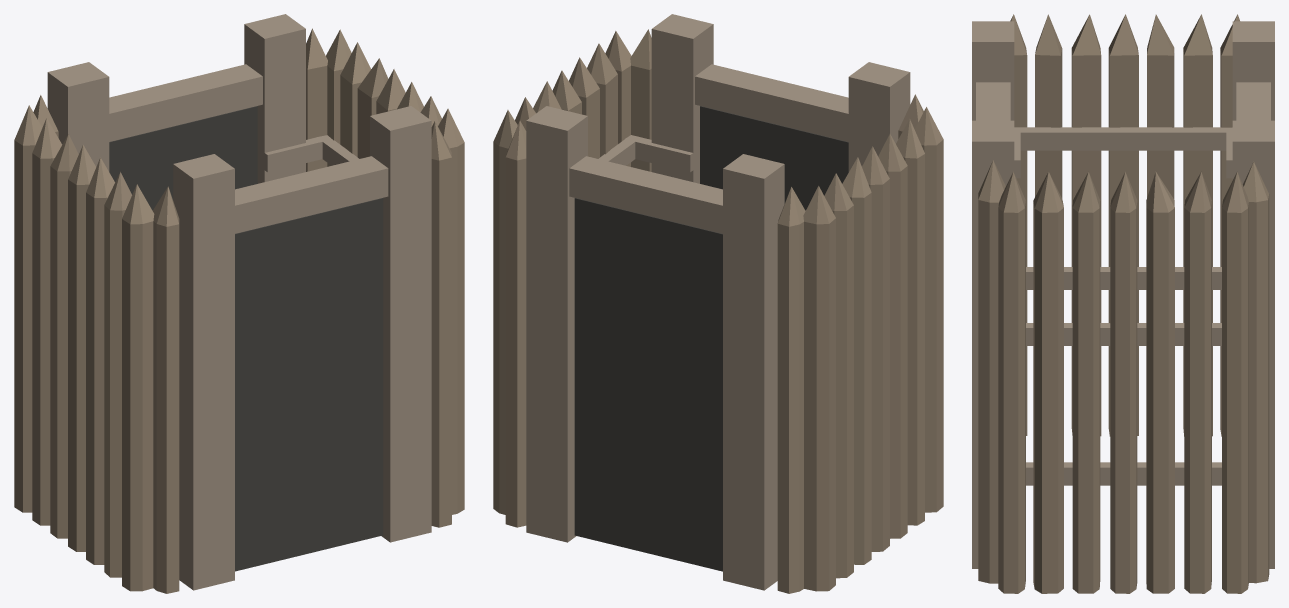
The model's file is first_fort_covered_way_bank_middle__first_fort_1803.glb.
3 views of the same model, side by side, from view 1: azimuth 30°, elevation 25°; view 2: azimuth 150°, elevation 25°; view 3: azimuth 270°, elevation 25° (orthographic). The views are drawn at different scales.
Visible parts, largest first — view 1: first_fort_covered_way_bank_middle__first_fort_1803; view 2: first_fort_covered_way_bank_middle__first_fort_1803; view 3: first_fort_covered_way_bank_middle__first_fort_1803.
Part boxes in pixels (<box>): first_fort_covered_way_bank_middle__first_fort_1803: <box>14,14,464,593</box>; first_fort_covered_way_bank_middle__first_fort_1803: <box>493,14,943,593</box>; first_fort_covered_way_bank_middle__first_fort_1803: <box>972,14,1274,593</box>.
Size of the model in its own units: 3.25 by 3.8 by 2.44.
